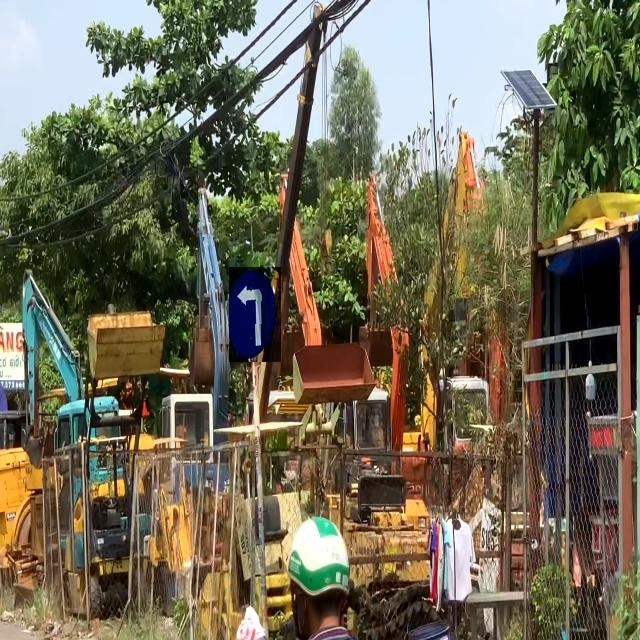bien_hieu_lenh: (229, 267, 281, 362)
